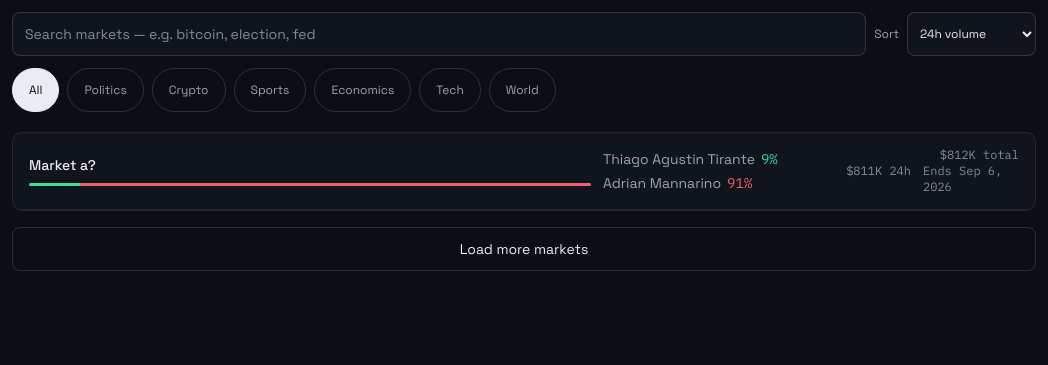
Test: a changed query never reuses a cursor (UX-1) › starts a fresh page when the search changes
This screenshot has width=1048, height=365.
Expected: the heading "Market a?" is shown, [29, 156, 96, 174]
Click the button "Load more markets" at (524, 249), box [12, 227, 1036, 271]
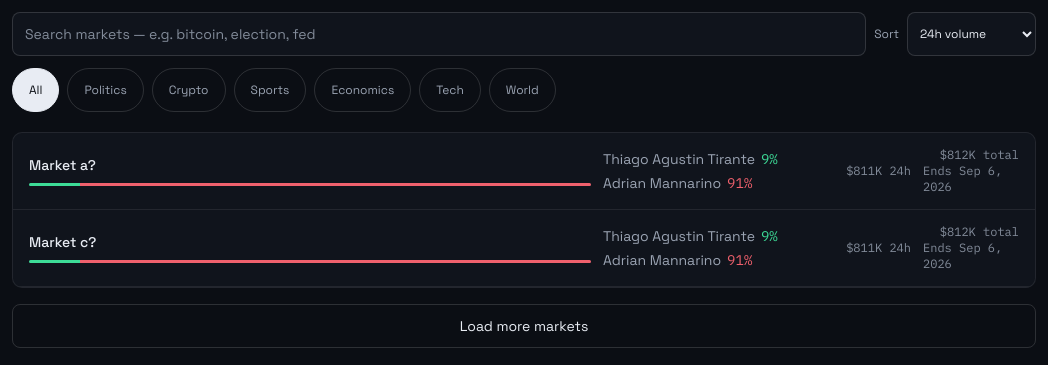
Expected: the heading "Market c?" is shown, [29, 233, 96, 251]
Type "fed" into the search field labelled "Search markets — e.g. bitcoin, election, fed" at (439, 34), box [12, 12, 866, 56]
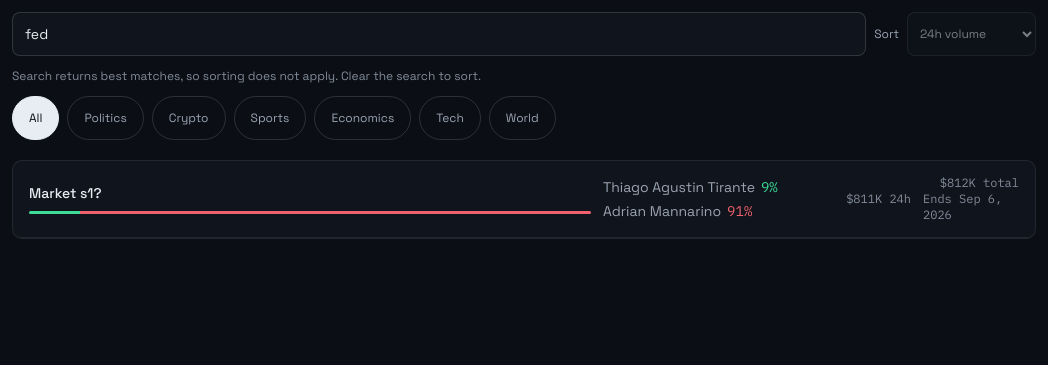
Expected: the text "Market a?" is not shown
Expected: the heading "Market s1?" is shown, [29, 184, 102, 202]
